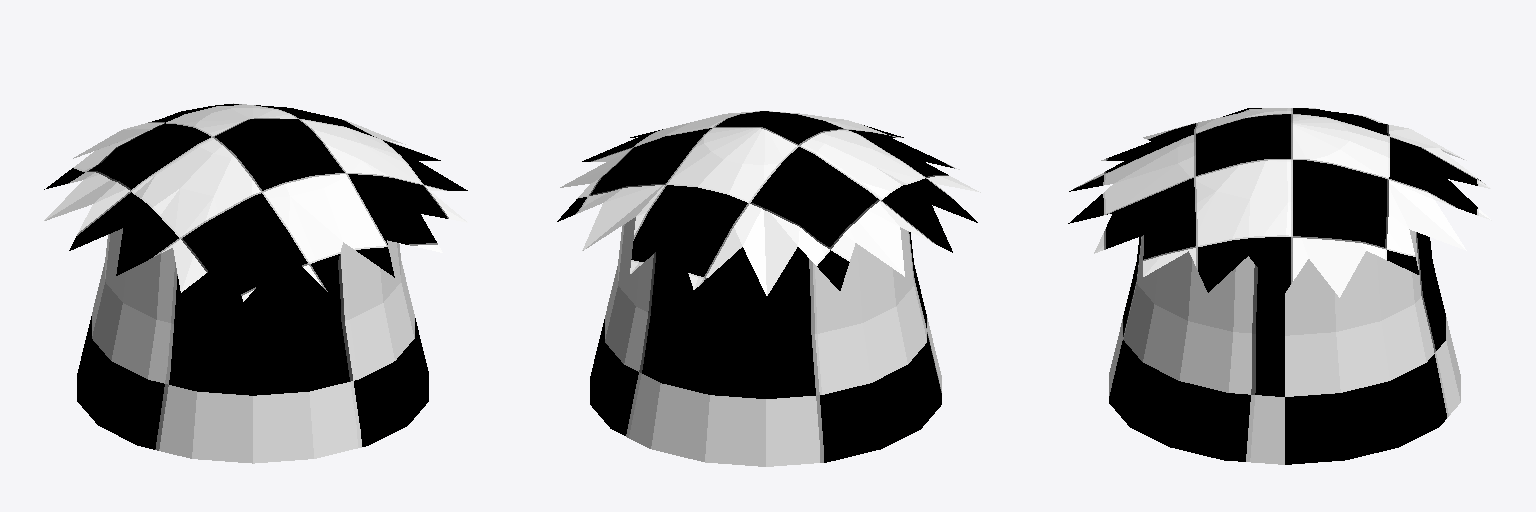
The picture shows the model from 3 angles: view 1: azimuth 30°, elevation 25°; view 2: azimuth 150°, elevation 25°; view 3: azimuth 270°, elevation 25°; orthographic projection.
Parts seen in each view (by area): view 1: Object002; view 2: Object002; view 3: Object002.
Part boxes in pixels (bbox=[...]): Object002: bbox=[44, 103, 467, 463]; Object002: bbox=[557, 111, 980, 466]; Object002: bbox=[1068, 108, 1491, 464].
Bounding box in the file's own units: 200 × 137 × 197.
Materials: 1 (1 with a texture image).